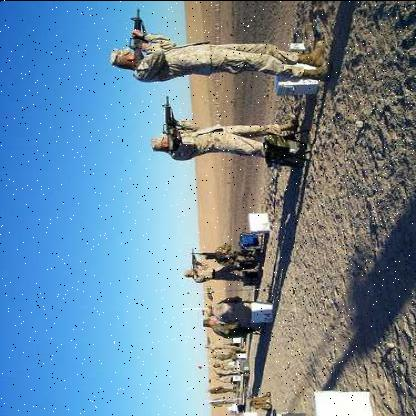rifle: (158, 90, 193, 150)
